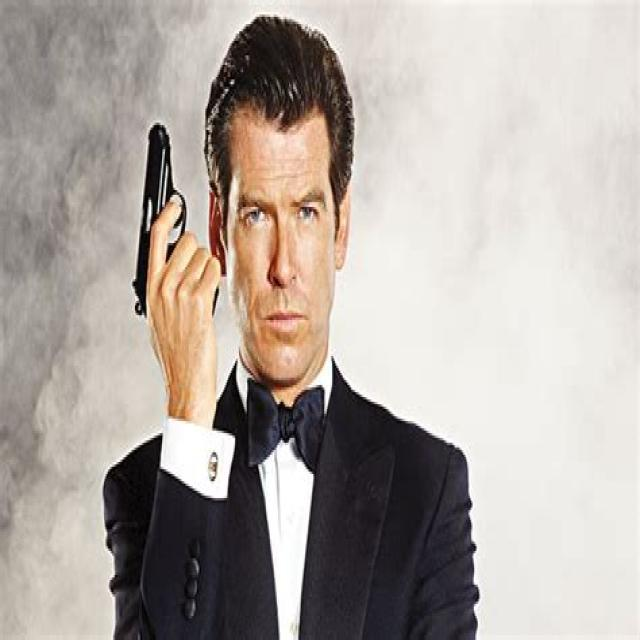weapons: (113, 71, 217, 381)
